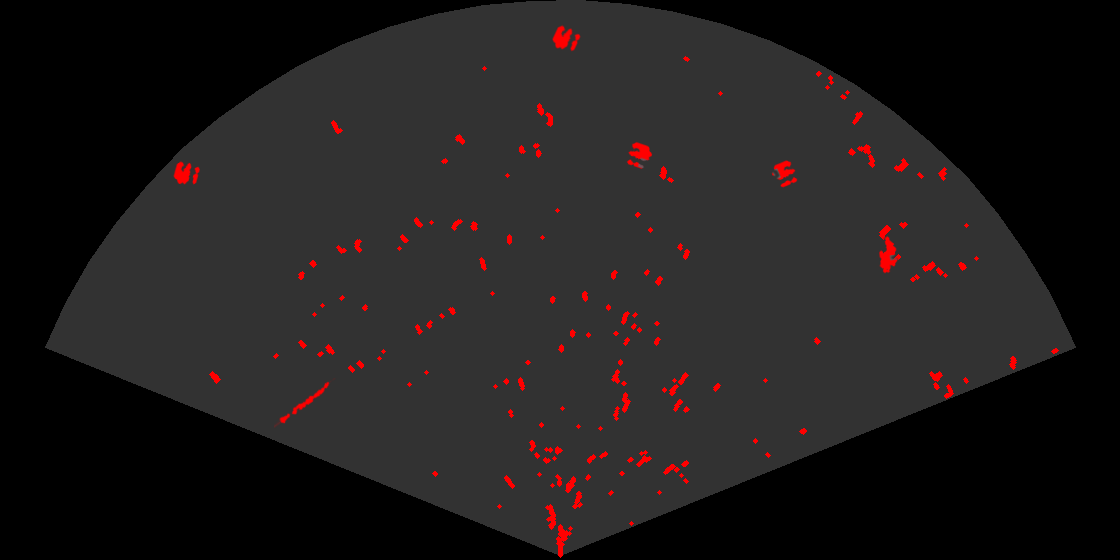AUV: (878, 234, 899, 275)
ball: (551, 23, 582, 53), (770, 159, 799, 189), (625, 140, 654, 170), (172, 159, 201, 186)
chain: (274, 378, 337, 429)
